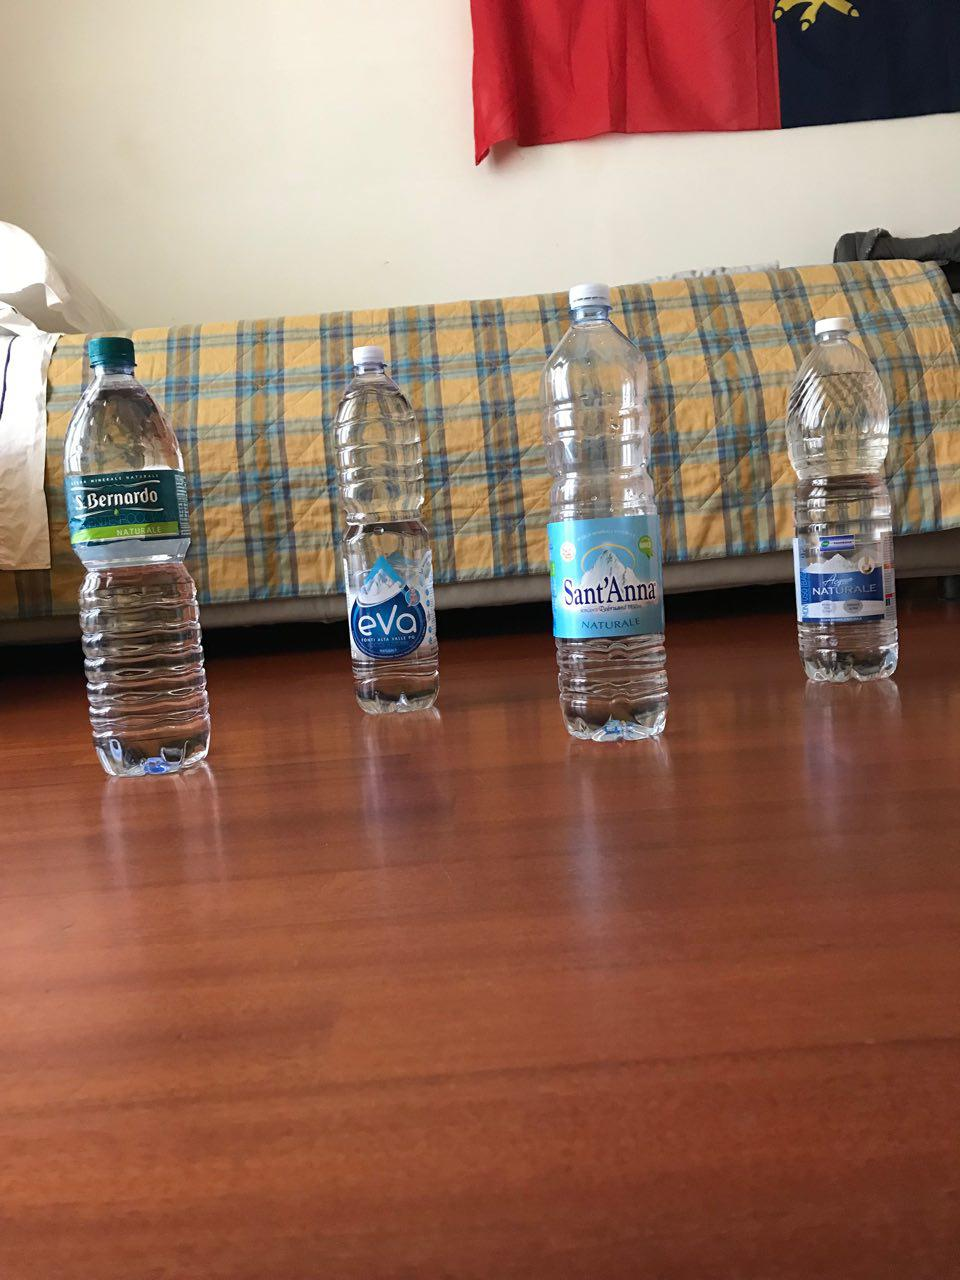san_bernardo: (62, 335, 211, 778)
